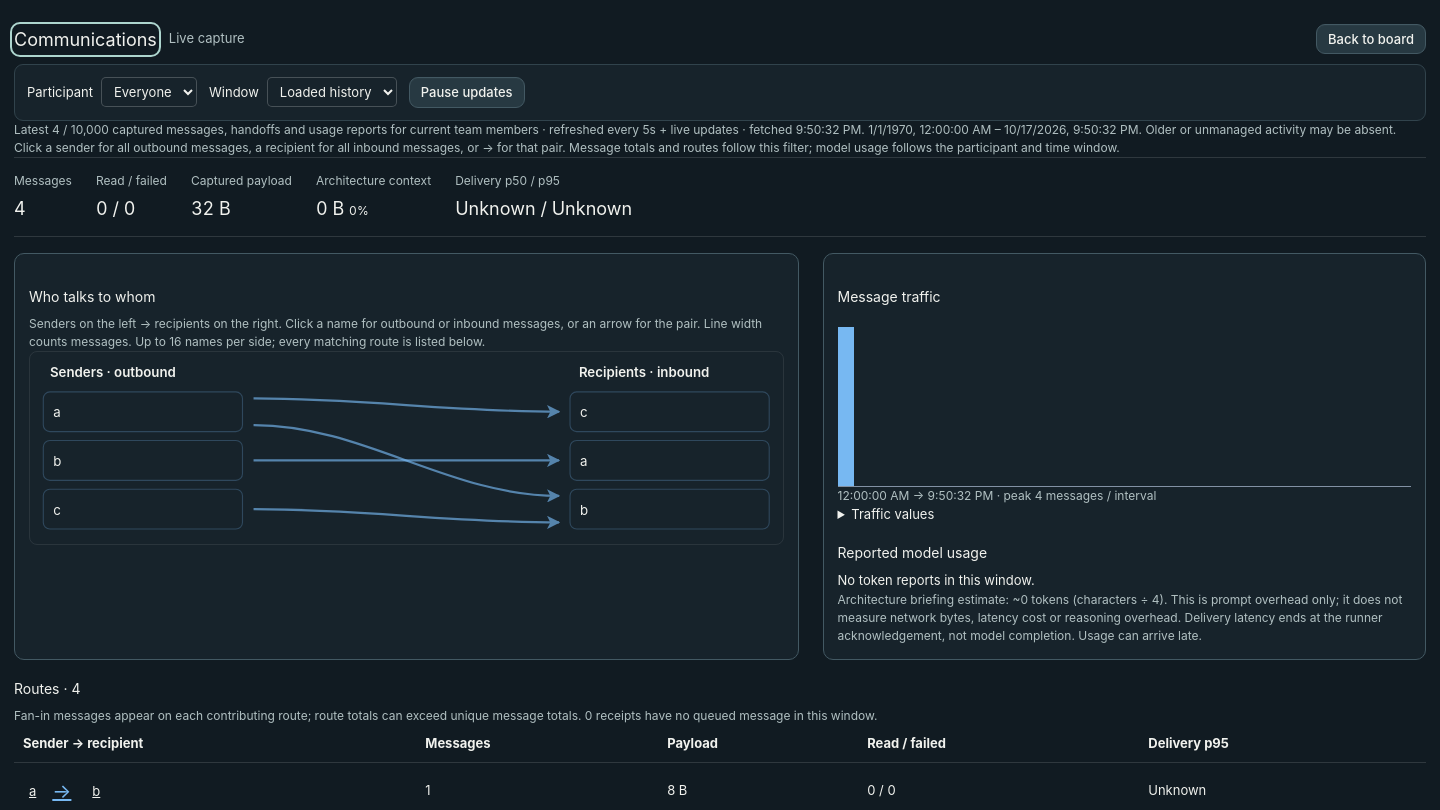
it: sender, recipient and pair buttons select outbound, inbound and both directions
This screenshot has width=1440, height=810.
Click the button named "Outbound from a".
click(33, 791)  # box [23, 775, 42, 807]
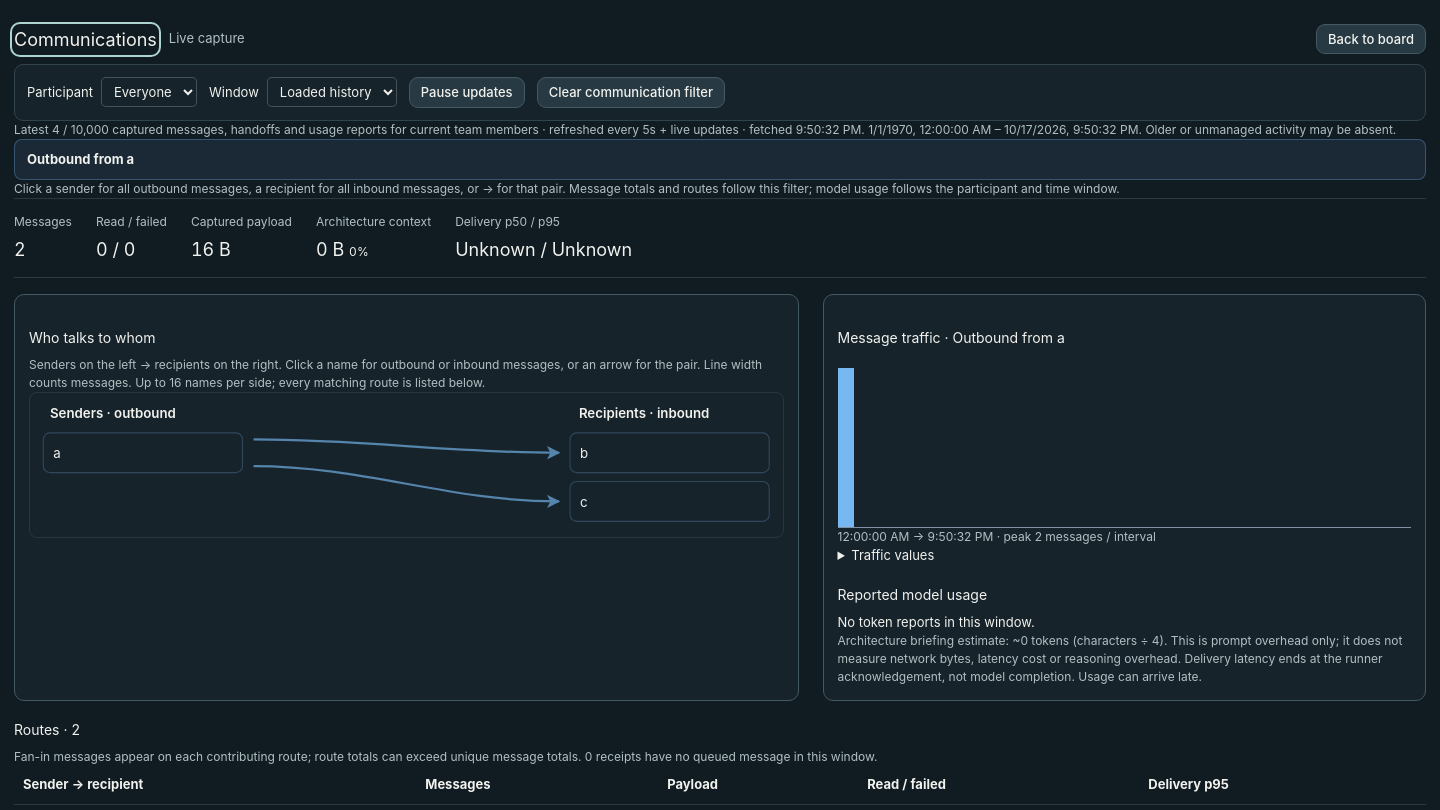
Expected: the message reads "Outbound from a", [27, 150, 134, 166]
Click the button "Clear communication filter".
click(631, 92)  # box [537, 77, 725, 108]
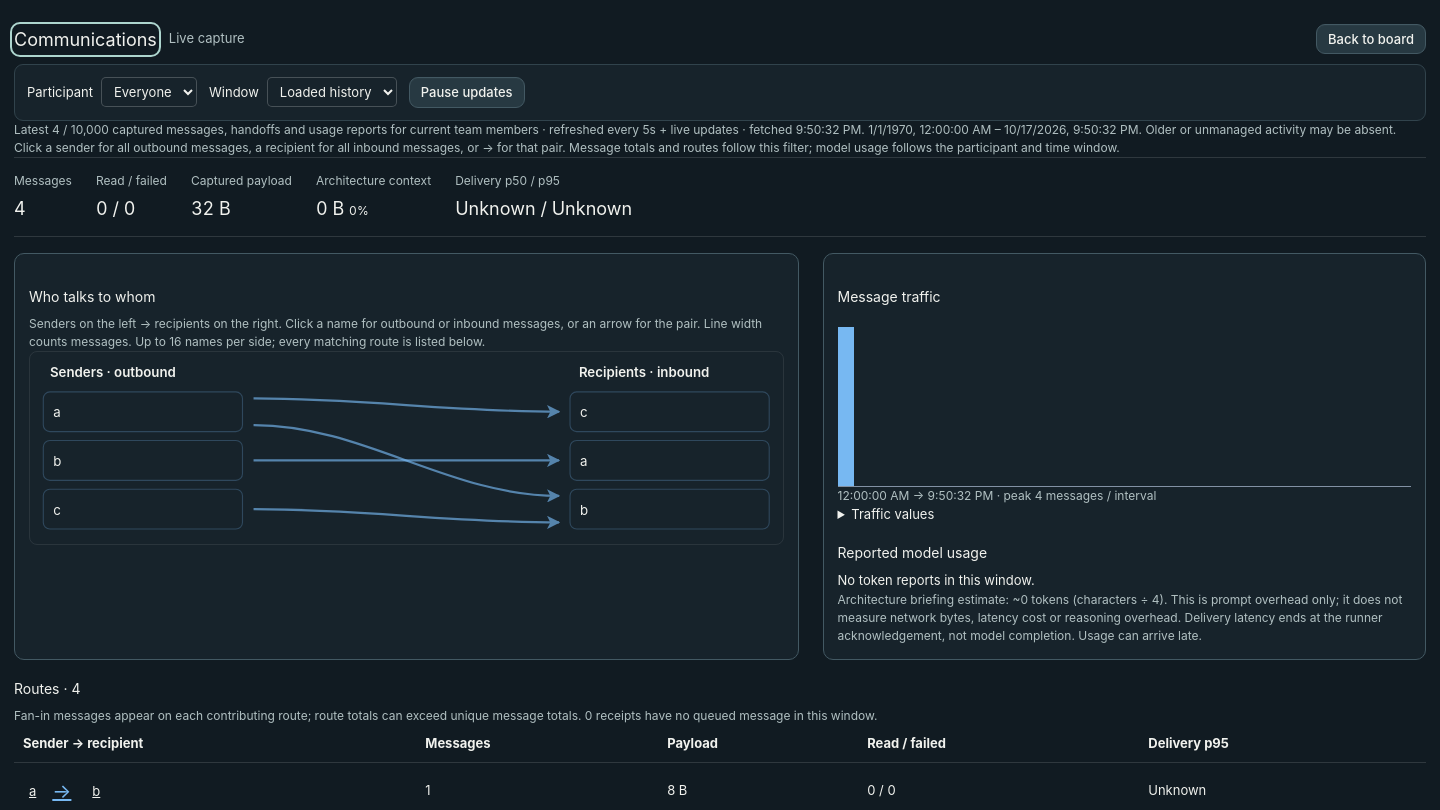
Click the button named "Inbound to b".
click(96, 791)  # box [86, 775, 106, 807]
(page scrolled)
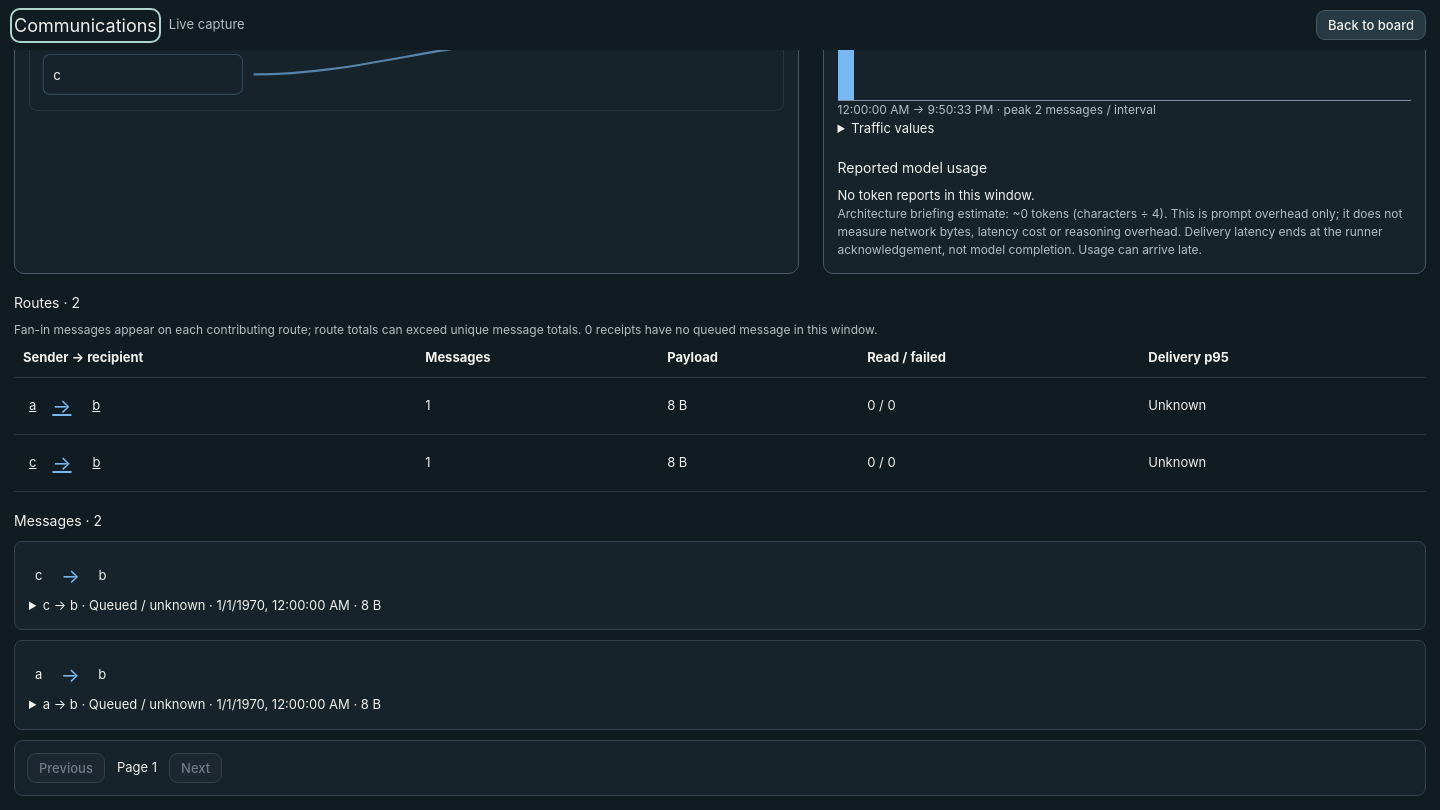
Expected: the heading "Messages · 2" is shown, [14, 512, 102, 528]
Click the button named "a → b".
click(64, 406)  # box [46, 386, 82, 424]
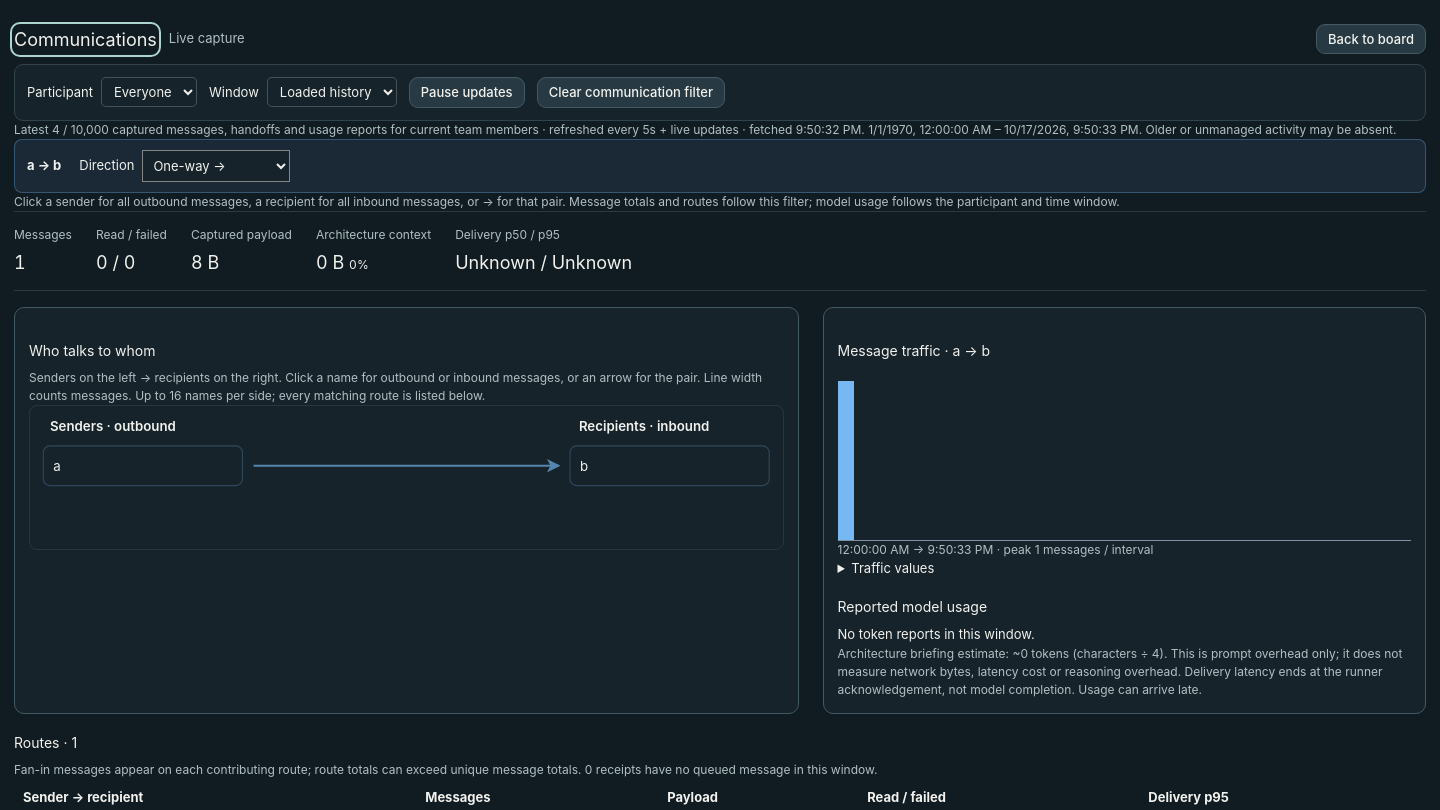
Select "Both directions ↔" in the dropdown named "Communication direction" at (216, 166), box [142, 150, 290, 182]
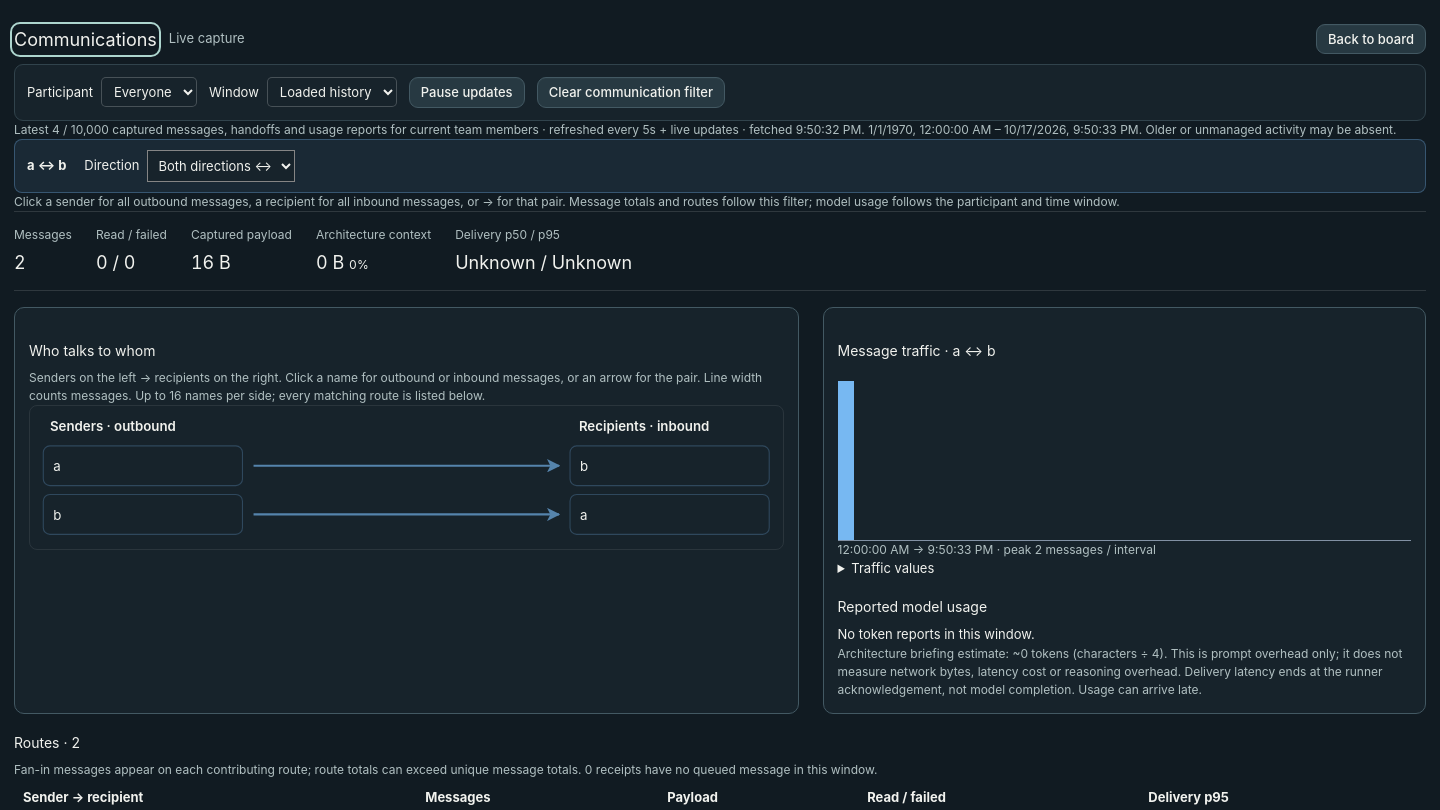
Expected: the message shows "a ↔ b", [27, 157, 66, 173]
